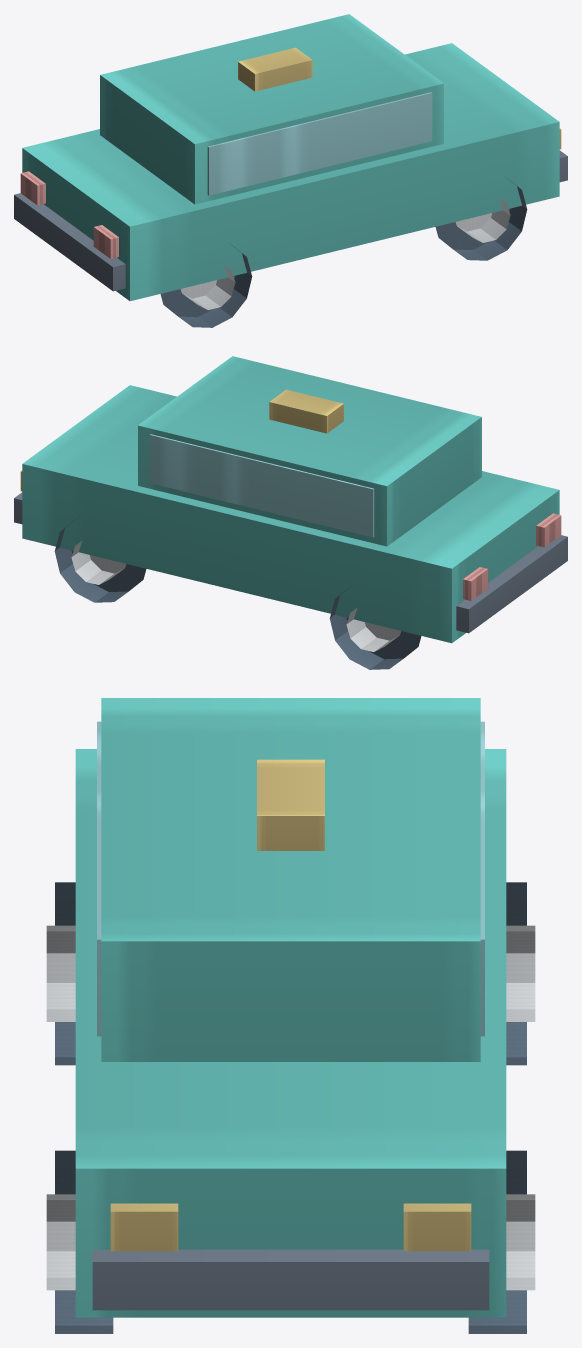
The model's file is taxi_generic.glb.
3 views of the same model, one above another, from view 1: azimuth 30°, elevation 25°; view 2: azimuth 150°, elevation 25°; view 3: azimuth 270°, elevation 25° (orthographic). The views are drawn at different scales.
Visible parts, largest first — view 1: taxi_generic; view 2: taxi_generic; view 3: taxi_generic.
Boxes of the visible parts, x1,y1,x2,y2 form: taxi_generic: (14,14,567,327); taxi_generic: (14,356,567,669); taxi_generic: (46,698,535,1333).
Bounding box in the file's own units: 4.34 × 1.77 × 2.02.
1 material, 1 textured.
